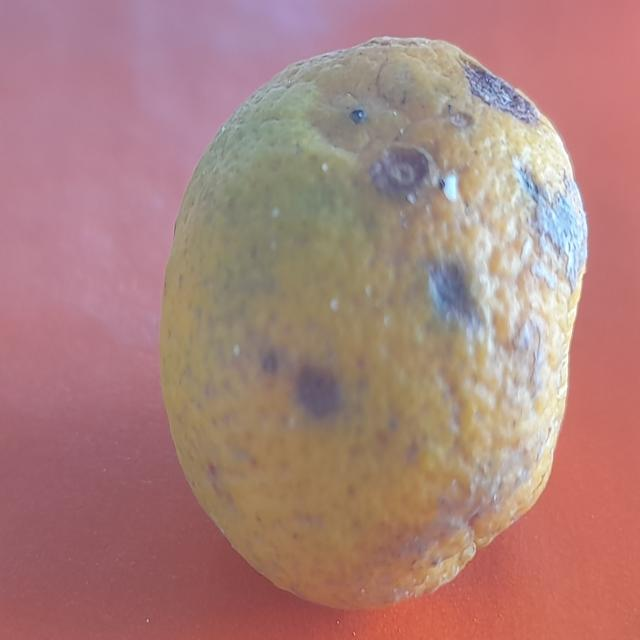black spot: (152, 40, 592, 610)
